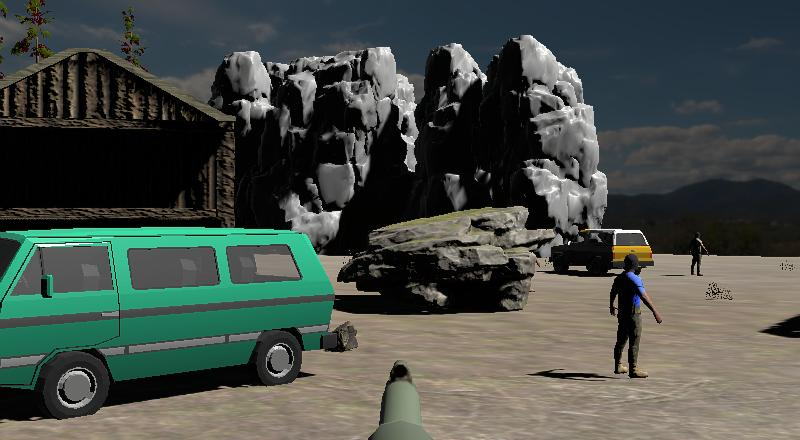Human: (606, 249, 665, 382)
car: (0, 225, 334, 418), (546, 223, 659, 279)
